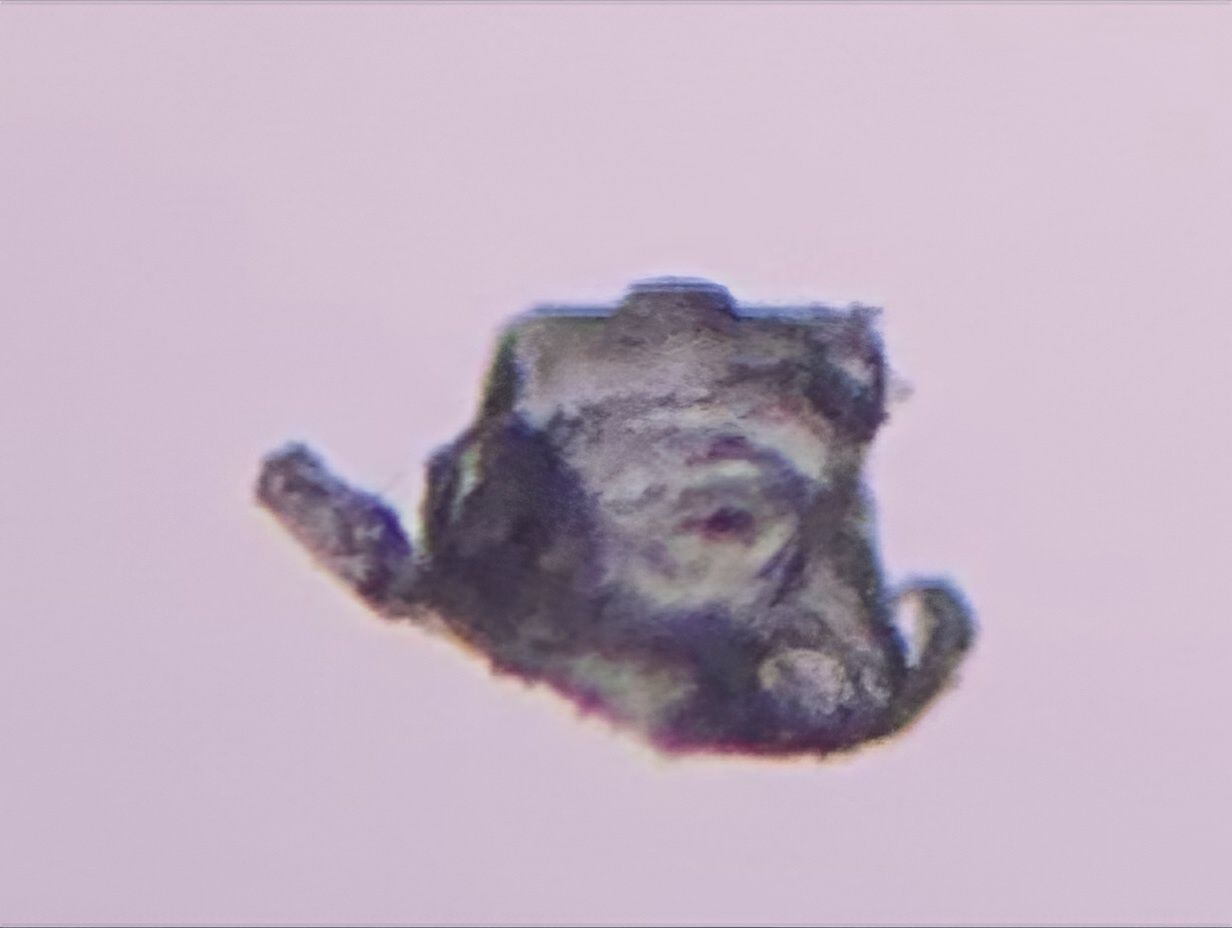microplastic: (248, 275, 984, 765)
